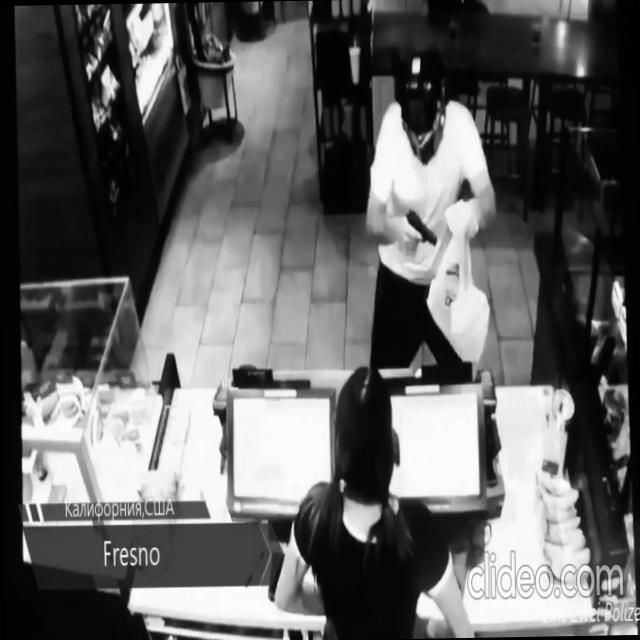gun: (402, 204, 439, 251)
person: (268, 358, 477, 640)
person with a gun: (361, 38, 499, 367)
